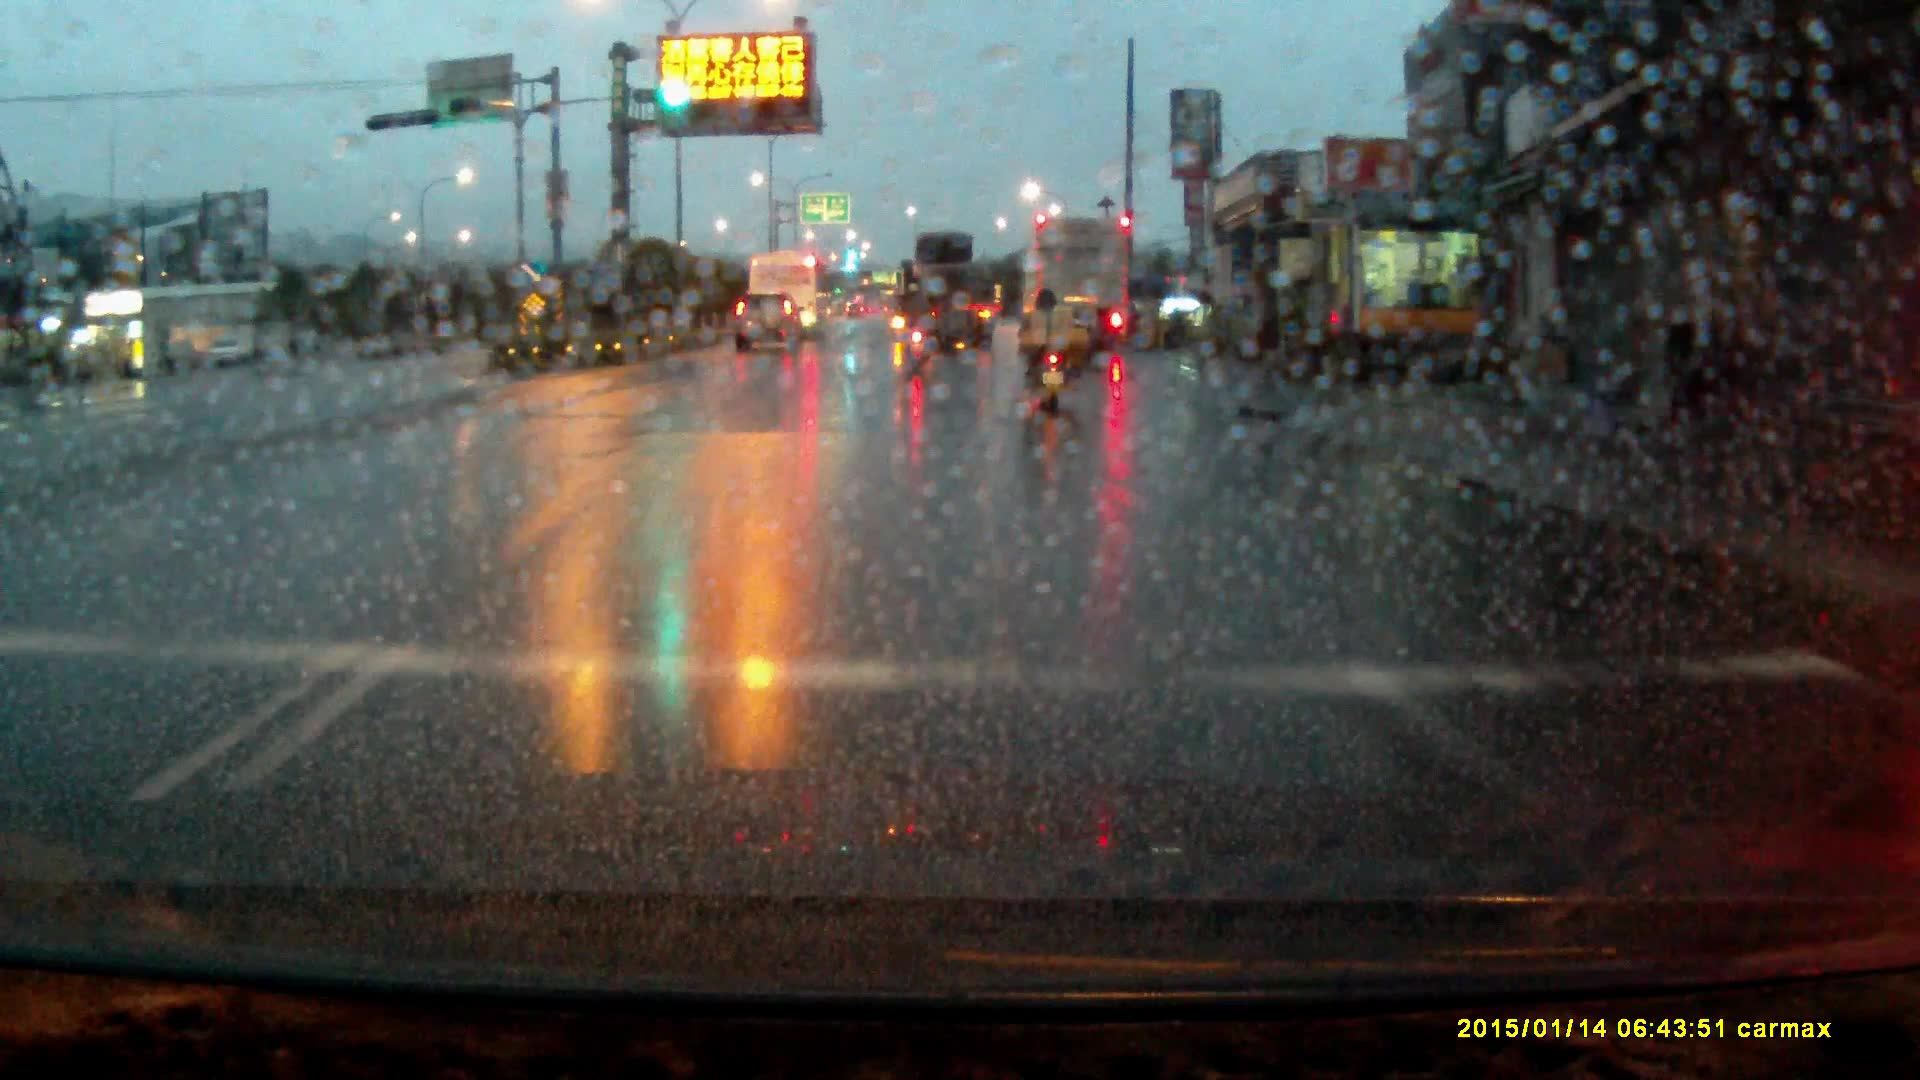rider: (1018, 283, 1086, 412), (900, 279, 937, 362)
vehicle: (1028, 213, 1128, 354), (899, 230, 997, 347), (756, 245, 830, 329), (732, 293, 807, 359)
